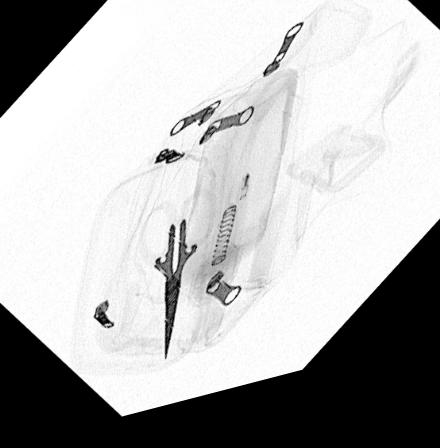Scissors: (133, 196, 218, 371)
